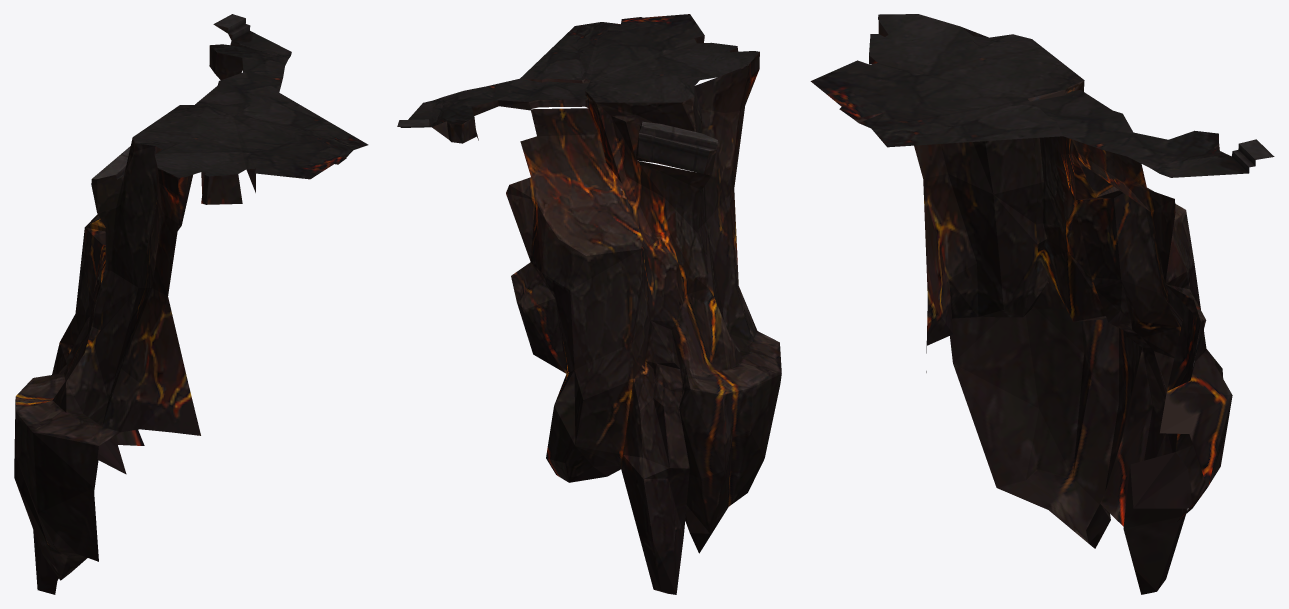
Rendered from S2_Build_XSC106_L6.FBX.
3 views of the same model, side by side, from view 1: azimuth 30°, elevation 25°; view 2: azimuth 150°, elevation 25°; view 3: azimuth 270°, elevation 25° (orthographic). The views are drawn at different scales.
Visible parts, largest first — view 1: S2_Build_XSC106_L6; view 2: S2_Build_XSC106_L6; view 3: S2_Build_XSC106_L6.
Part boxes in pixels (x1,y1,x2,y2): S2_Build_XSC106_L6: (14, 14, 368, 594); S2_Build_XSC106_L6: (397, 14, 781, 594); S2_Build_XSC106_L6: (810, 14, 1274, 594).
Size of the model in its own units: 2560 by 3771 by 2700.
